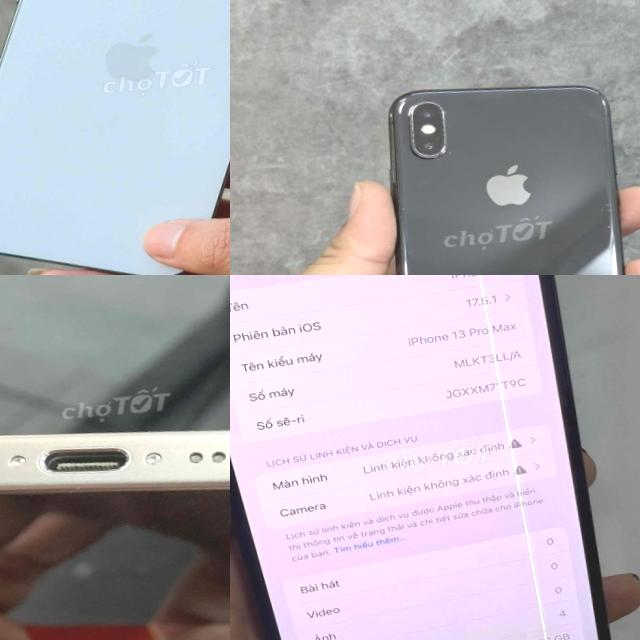scratch: (594, 196, 614, 216), (434, 138, 456, 155), (558, 85, 579, 101), (394, 198, 408, 214), (604, 220, 614, 233), (128, 476, 138, 482)
screen_defect: (428, 275, 582, 640)
